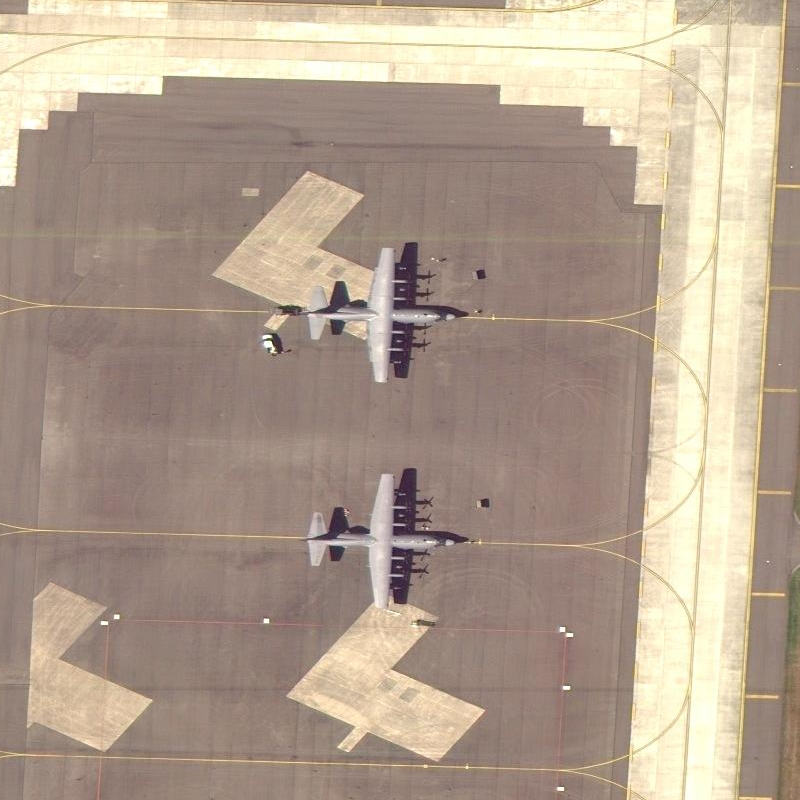A2: (298, 240, 463, 391), (299, 468, 461, 617)
